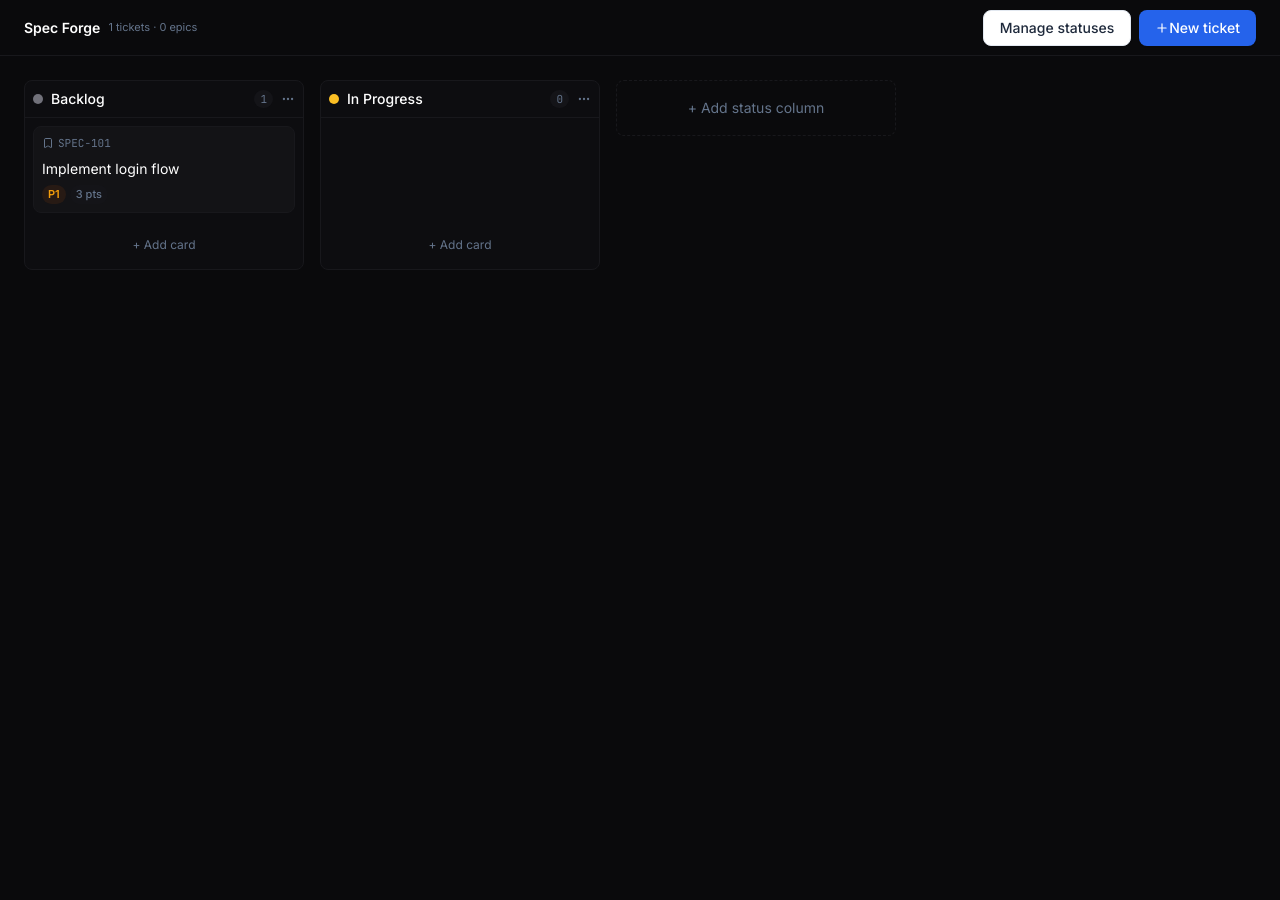
Scenario: BoardPage › opens the Create Ticket modal defaulted to the first status when clicking New ticket
Click the button "New ticket" at (1198, 28), box [1139,10,1256,46]
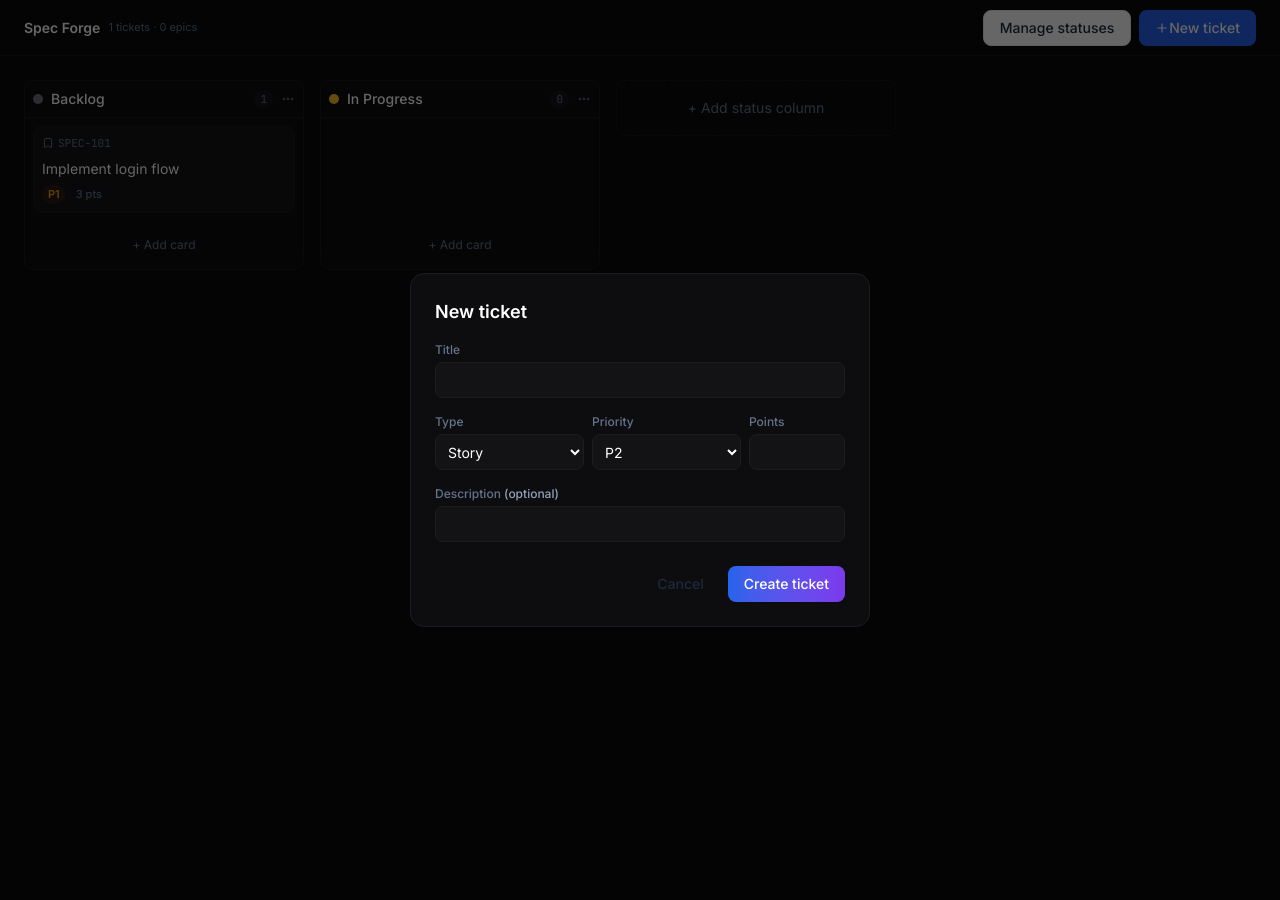
Expected: the heading "New ticket" is shown, [435,301,527,322]
